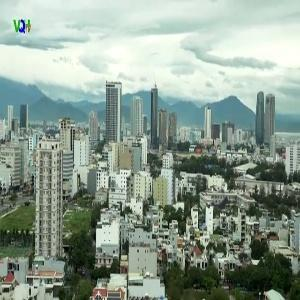drone: (196, 174, 256, 234)
